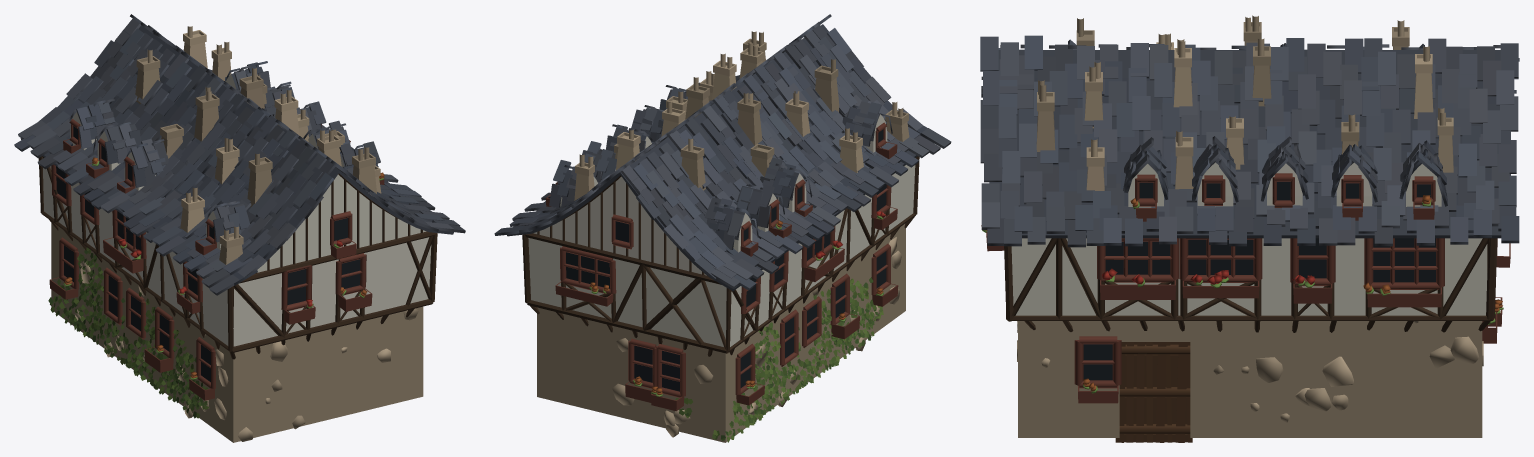
The model's file is house_45.glb.
The picture shows the model from 3 angles, left to right: view 1: azimuth 30°, elevation 25°; view 2: azimuth 150°, elevation 25°; view 3: azimuth 270°, elevation 25°; orthographic projection. The views are drawn at different scales.
Parts seen in each view (by area): view 1: house_45; view 2: house_45; view 3: house_45.
Part boxes in pixels (bbox=[...]): house_45: bbox=[14, 14, 465, 442]; house_45: bbox=[494, 14, 951, 442]; house_45: bbox=[980, 15, 1519, 442].
Bounding box in the file's own units: 6.71 × 7.22 × 9.67.
